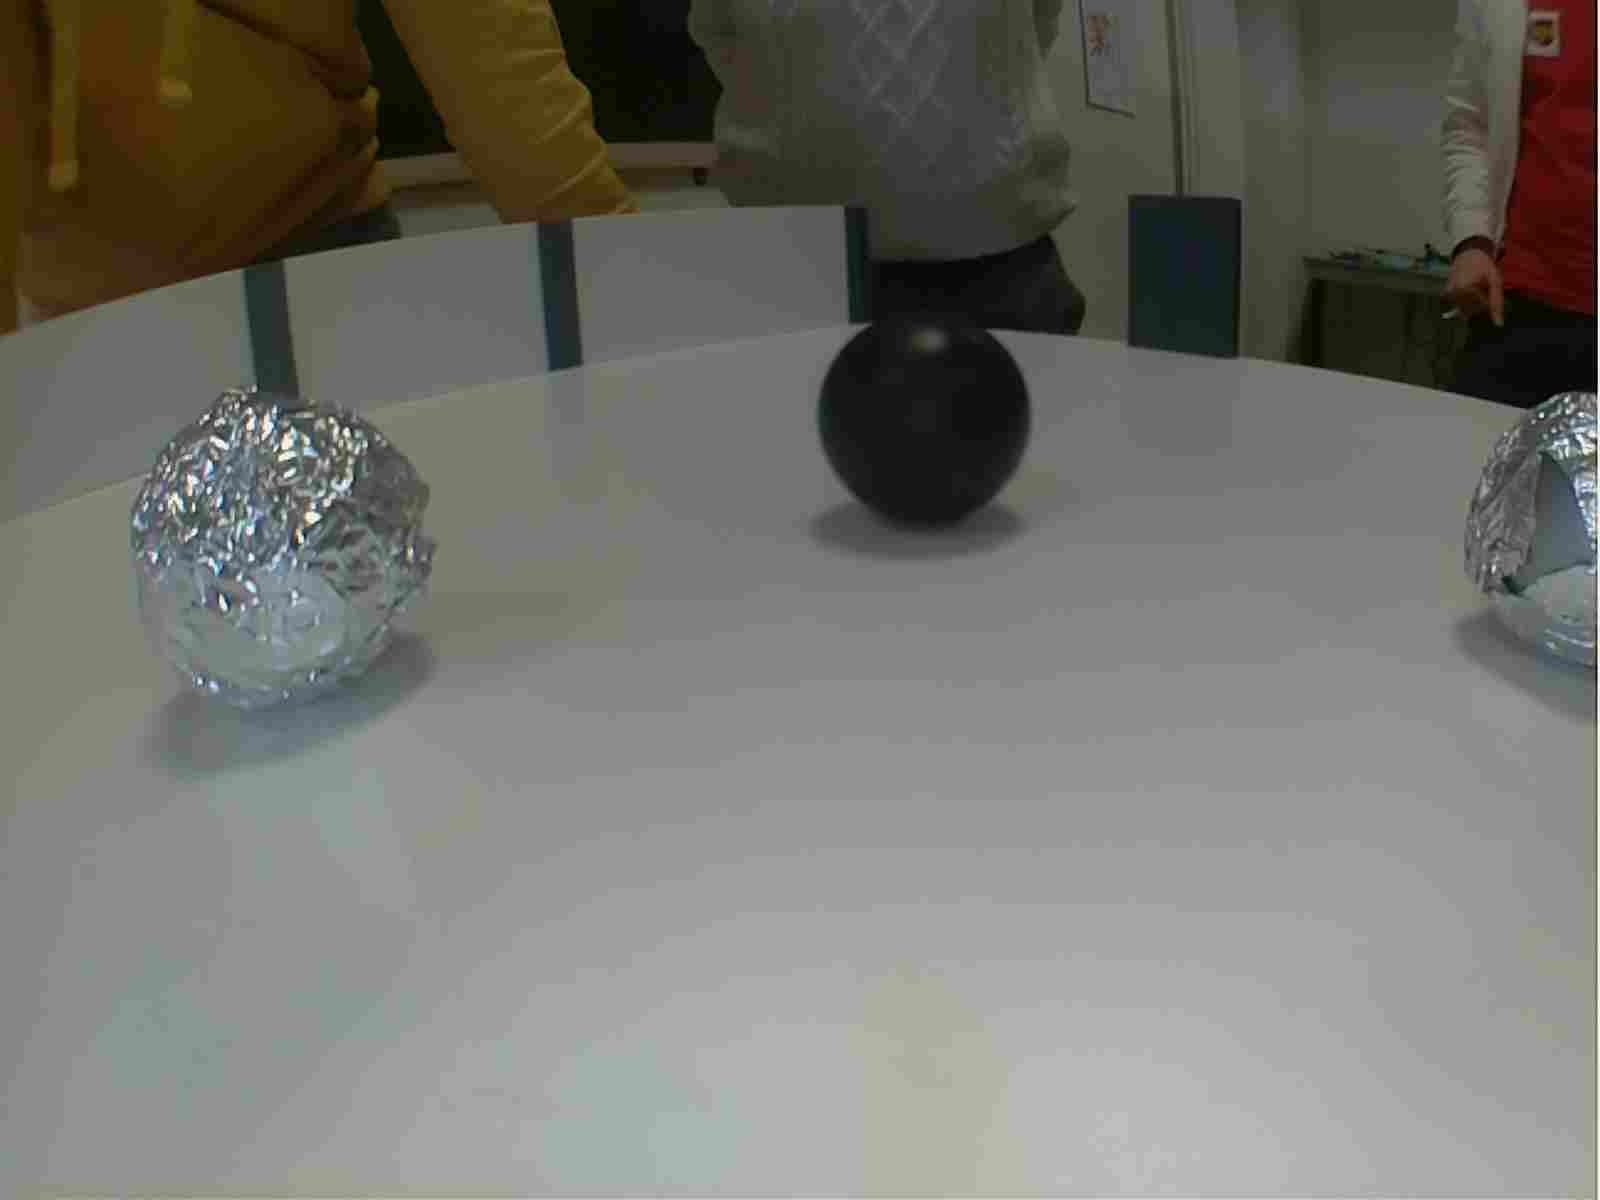bianca: (120, 377, 446, 703), (1461, 395, 1600, 678)
nera: (815, 319, 1032, 536)
